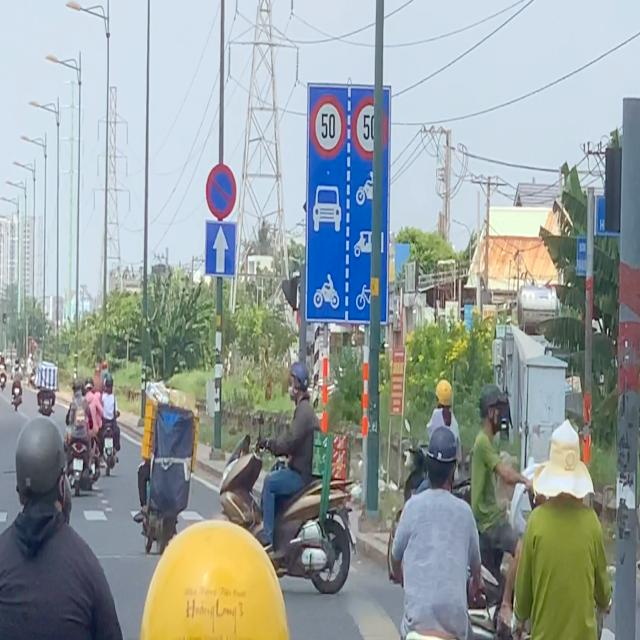Cam do: (206, 165, 238, 218)
Chi dan: (207, 222, 236, 276)
Toc do toi da: (310, 95, 346, 160), (352, 96, 381, 158)
